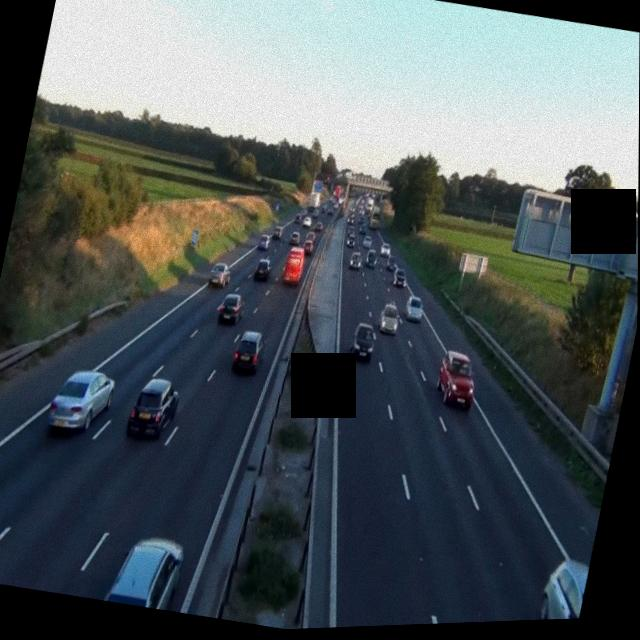car: (104, 527, 187, 614), (46, 363, 118, 439), (528, 555, 590, 620), (126, 373, 181, 444), (433, 349, 481, 412), (231, 328, 266, 375), (216, 289, 246, 327), (349, 322, 377, 361), (379, 302, 402, 335), (403, 295, 427, 323), (208, 262, 232, 290), (253, 256, 274, 284), (392, 269, 408, 290), (348, 252, 364, 271), (258, 232, 273, 250), (364, 250, 379, 268), (301, 238, 316, 256), (288, 229, 301, 248), (378, 243, 391, 259), (363, 236, 374, 252), (345, 235, 355, 249)
truck: (281, 246, 308, 286), (360, 197, 377, 228)
